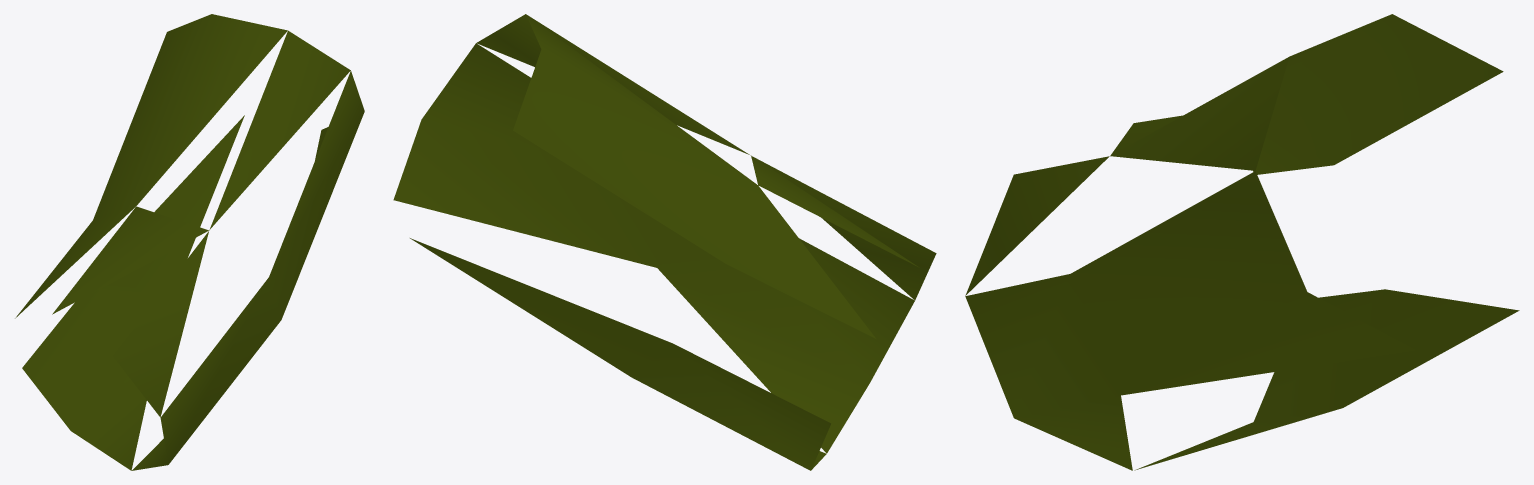
The model's file is planta-005.gltf.
The picture shows the model from 3 angles, left to right: view 1: azimuth 30°, elevation 25°; view 2: azimuth 150°, elevation 25°; view 3: azimuth 270°, elevation 25°; orthographic projection. The views are drawn at different scales.
Visible parts, largest first — view 1: Anim_Planta-f.005; view 2: Anim_Planta-f.005; view 3: Anim_Planta-f.005.
Part boxes in pixels (left/top/right/bottom): Anim_Planta-f.005: left=15, top=14, right=364, bottom=470; Anim_Planta-f.005: left=393, top=14, right=936, bottom=470; Anim_Planta-f.005: left=965, top=14, right=1519, bottom=470.
Size of the model in its own units: 1.37 by 1.28 by 1.1.
1 material, 1 textured.
